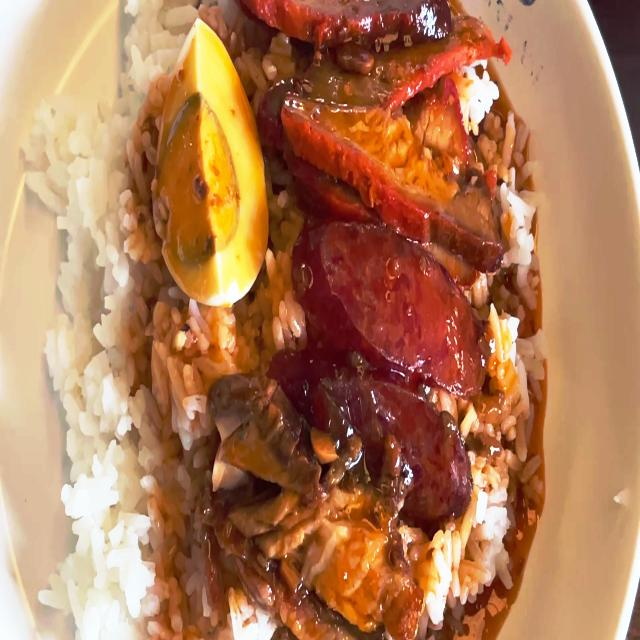boiled_egg: (168, 49, 264, 299)
chainese_sausage: (319, 232, 467, 473)
crispy_pork: (245, 543, 459, 640), (198, 398, 317, 558)
red_pork: (276, 0, 455, 209)
red_pork_and_crispy_pork: (0, 0, 640, 640)
rice: (55, 0, 156, 640), (113, 310, 202, 640)
